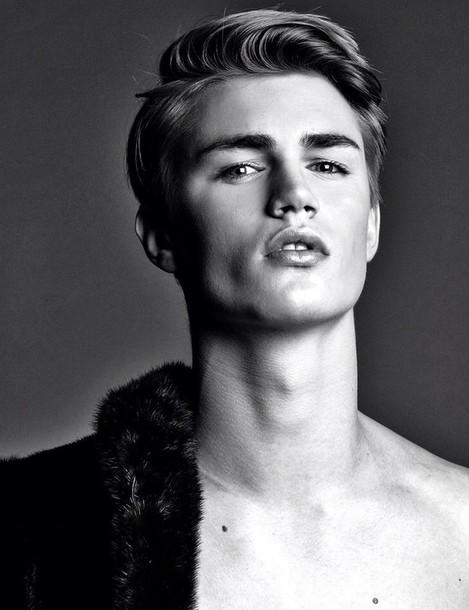BOY: (143, 19, 380, 329)
